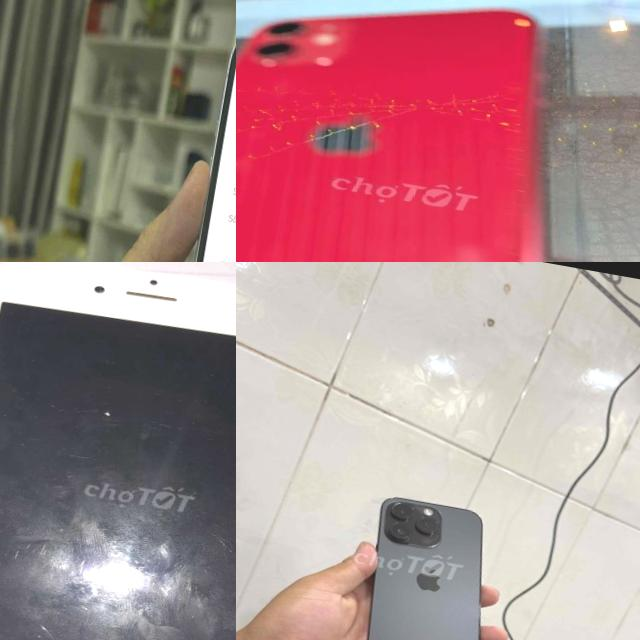gen_11: (236, 0, 596, 262)
gen_14: (136, 14, 236, 262), (349, 489, 510, 640)
gen_6: (0, 262, 236, 640)
